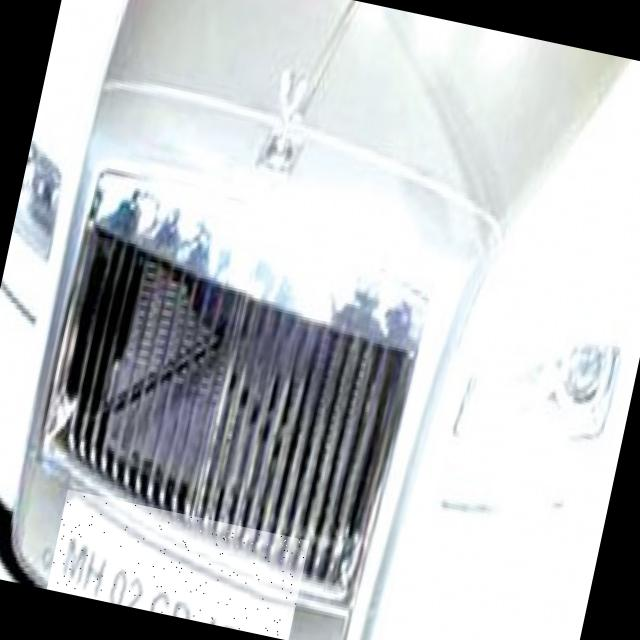Plate: (47, 490, 310, 640)
